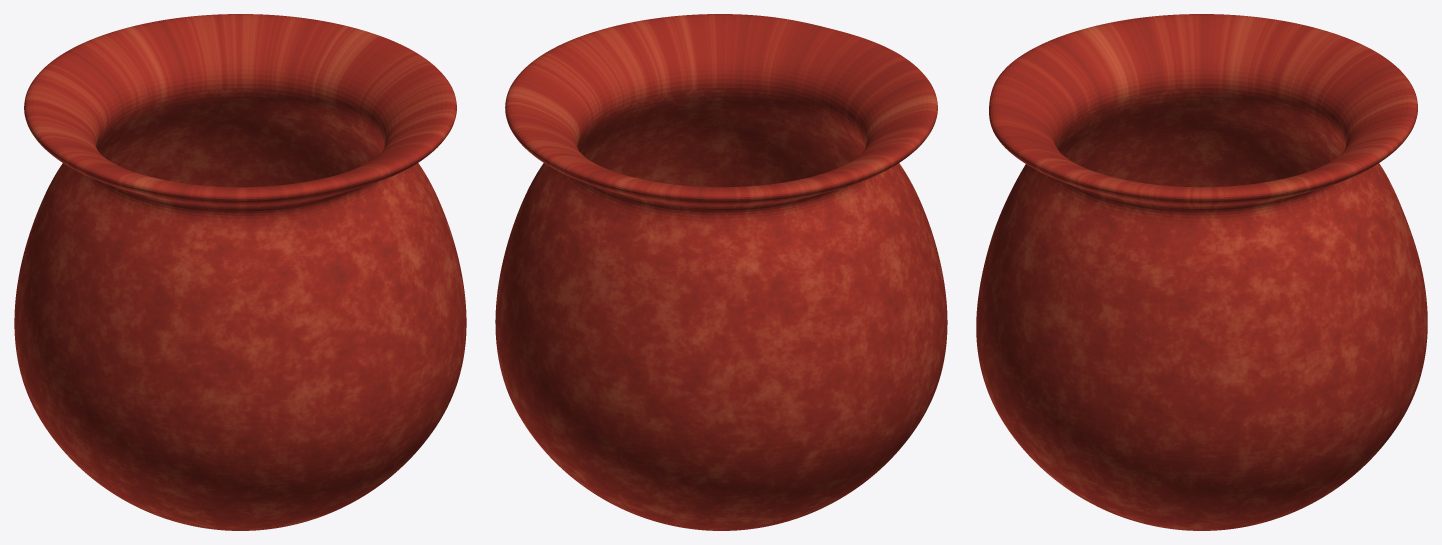
The model's file is matka.fbx.
3 views of the same model, side by side, from view 1: azimuth 30°, elevation 25°; view 2: azimuth 150°, elevation 25°; view 3: azimuth 270°, elevation 25° (orthographic).
Parts seen in each view (by area): view 1: matka; view 2: matka; view 3: matka.
Boxes of the visible parts, x1=… form: matka: x1=14, y1=14, x2=466, y2=530; matka: x1=495, y1=14, x2=947, y2=530; matka: x1=976, y1=14, x2=1427, y2=530.
Bounding box in the file's own units: 18.85 × 18.7 × 18.83.
1 material, 1 textured.
